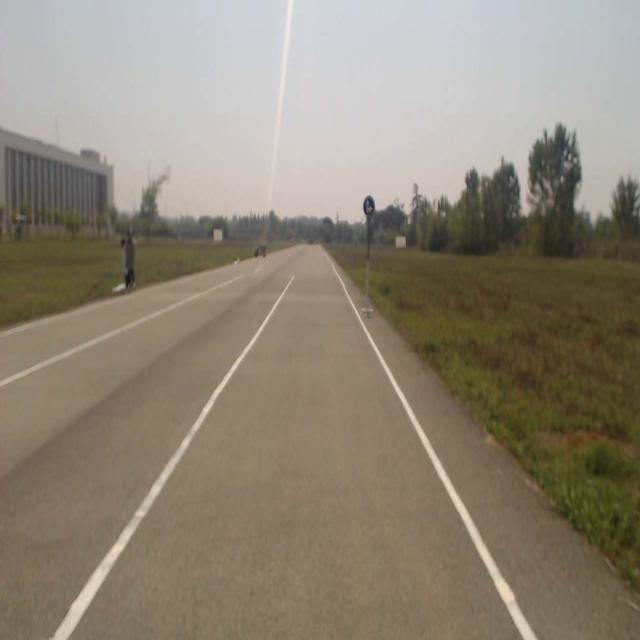ilerisag: (363, 197, 375, 215)
